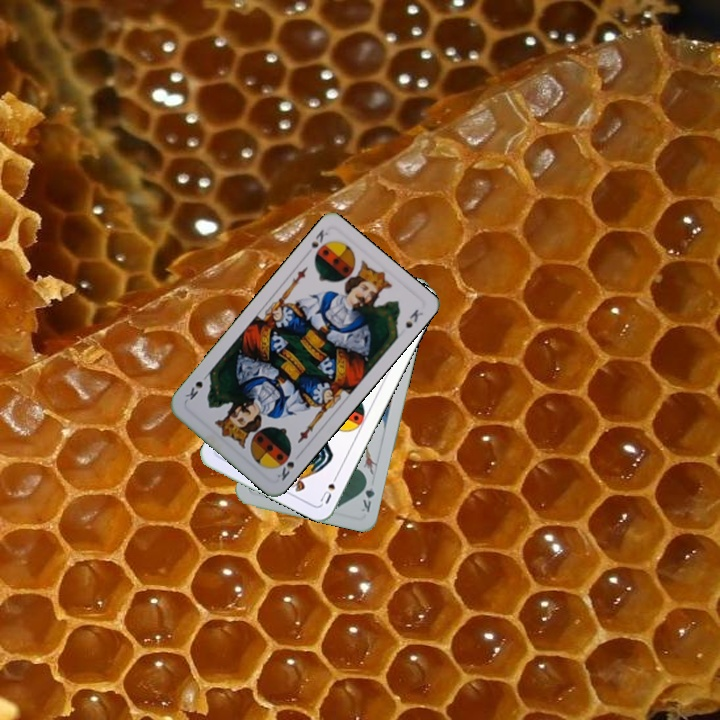GK: (357, 475, 377, 515)
SK: (302, 225, 331, 262), (273, 457, 297, 483)
SU: (316, 469, 341, 506)
